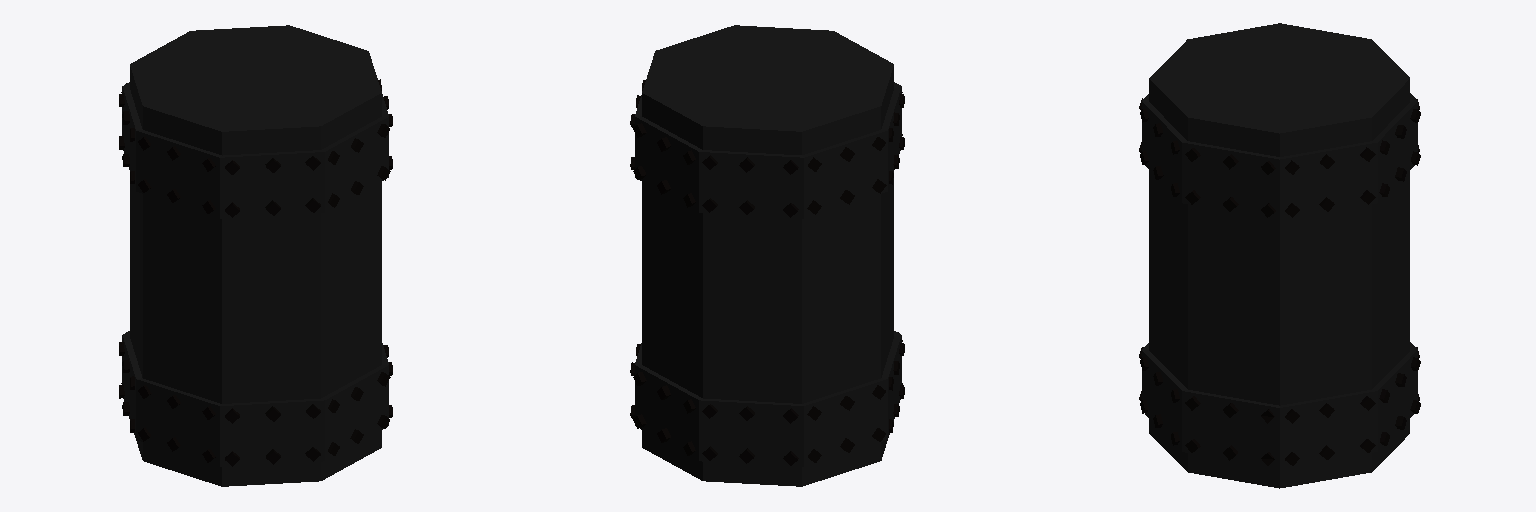
The model's file is barrel0.obj.
The picture shows the model from 3 angles: view 1: azimuth 30°, elevation 25°; view 2: azimuth 150°, elevation 25°; view 3: azimuth 270°, elevation 25°; orthographic projection.
Parts seen in each view (by area): view 1: Cylinder; view 2: Cylinder; view 3: Cylinder.
Boxes of the visible parts, <box> form: Cylinder: <box>119,25,392,486</box>; Cylinder: <box>630,25,904,486</box>; Cylinder: <box>1139,23,1420,488</box>.
Size of the model in its own units: 2.15 by 3 by 2.16.